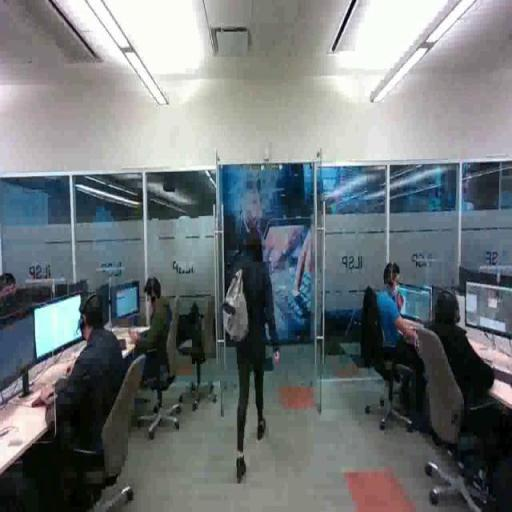person: (224, 224, 285, 485)
